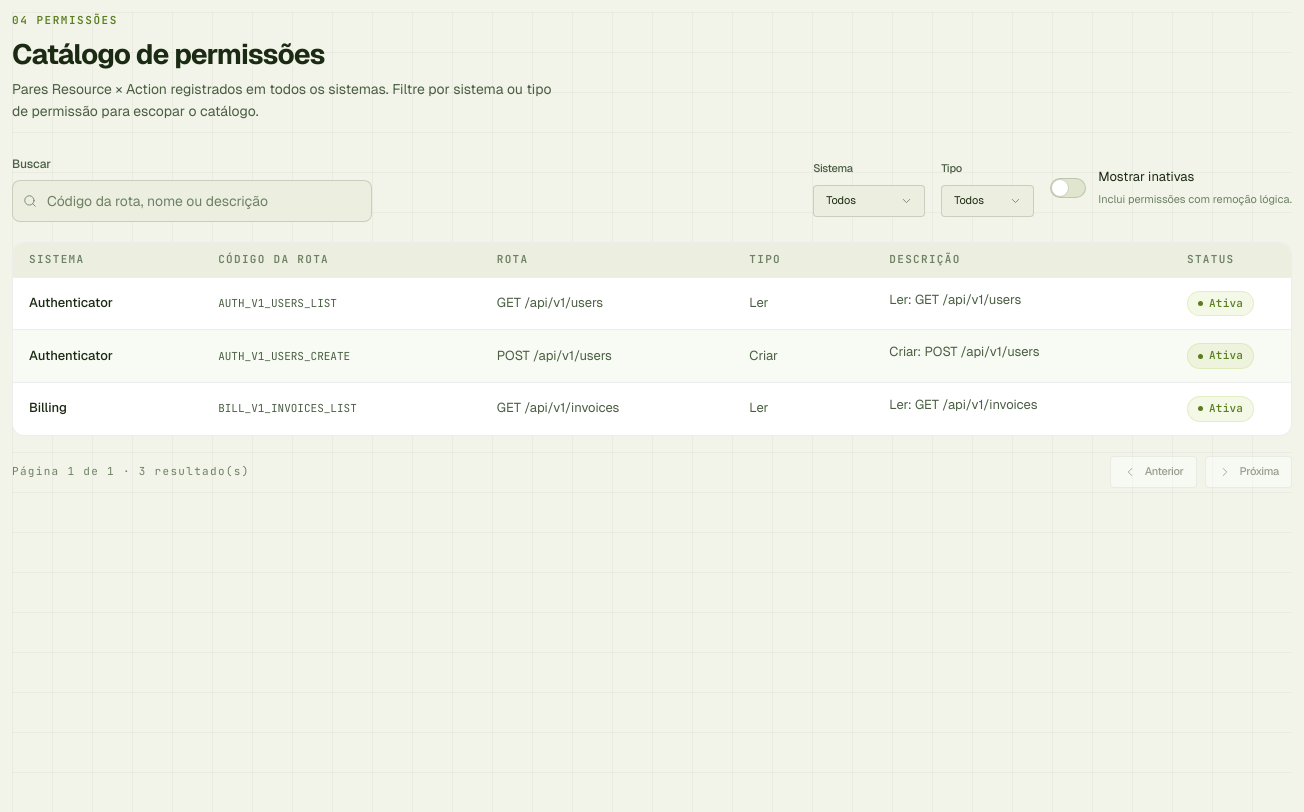
Test: PermissionsListShellPage — estados vazios › vazio com busca: exibe termo + botão limpar
In the search field with test id "permissions-search": [192, 201] box [12,180,372,222], type "naoexiste"
Wait 300 ms
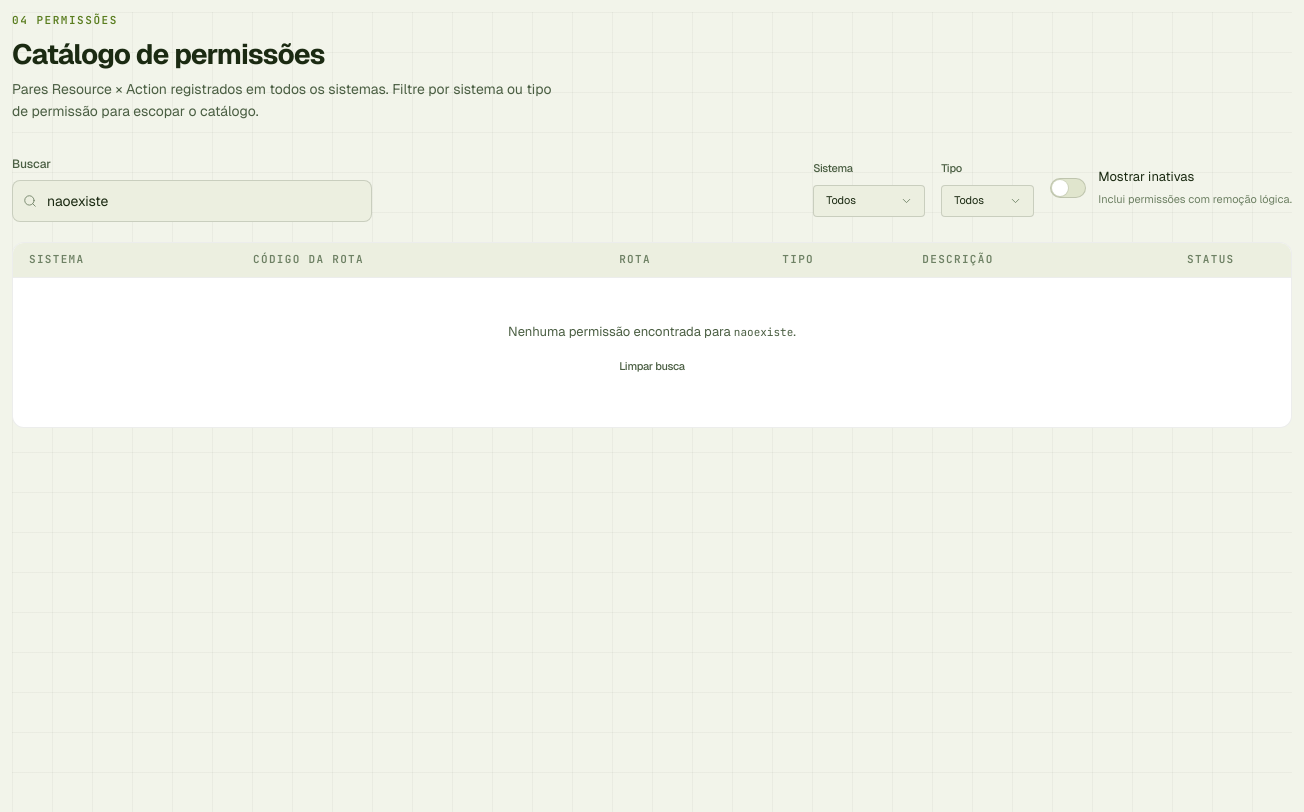
Result: the button with test id "permissions-empty-clear" is shown at [606,350,698,382]
